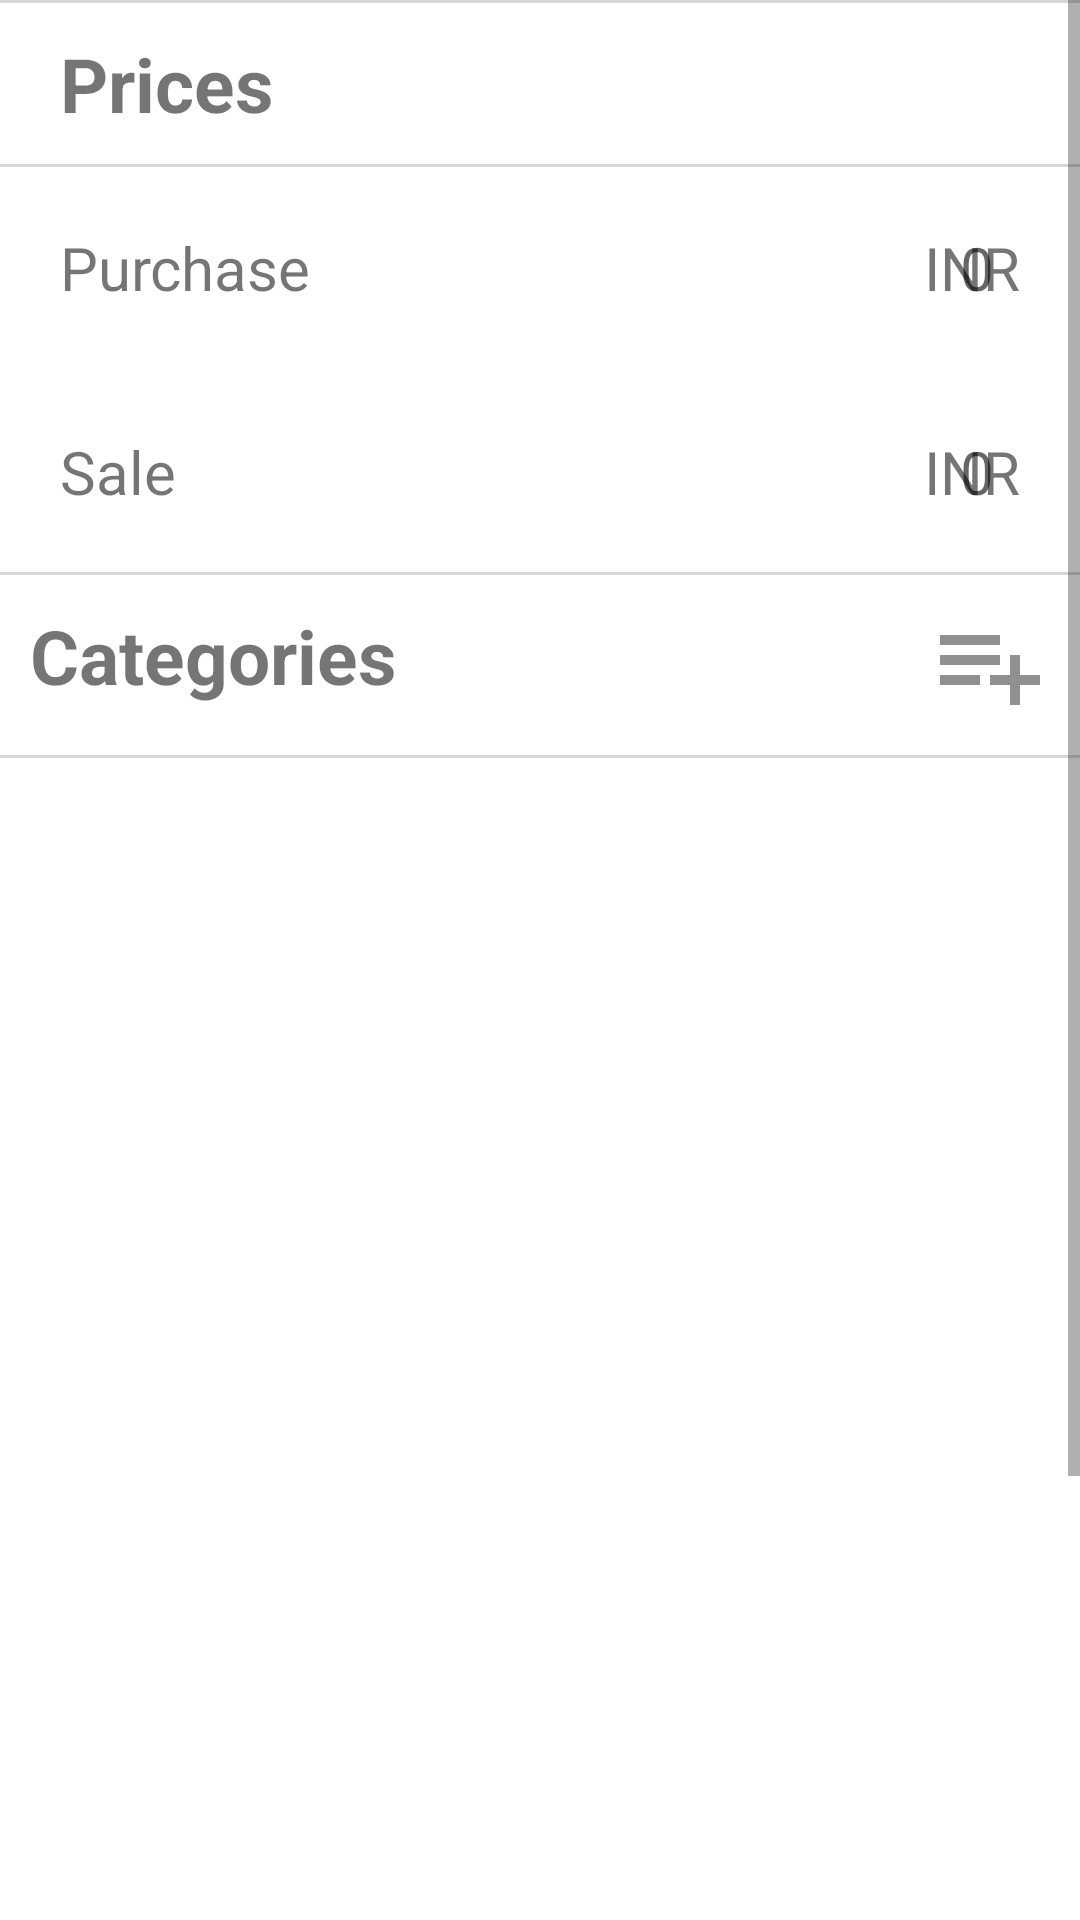

Screen size 1080w x 1920h. Icon name, then its box in pixels as {"x1": x1, "y1": y1, "x2": x2, "y2": y2}:
playlist add: {"x1": 940, "y1": 635, "x2": 1040, "y2": 705}
